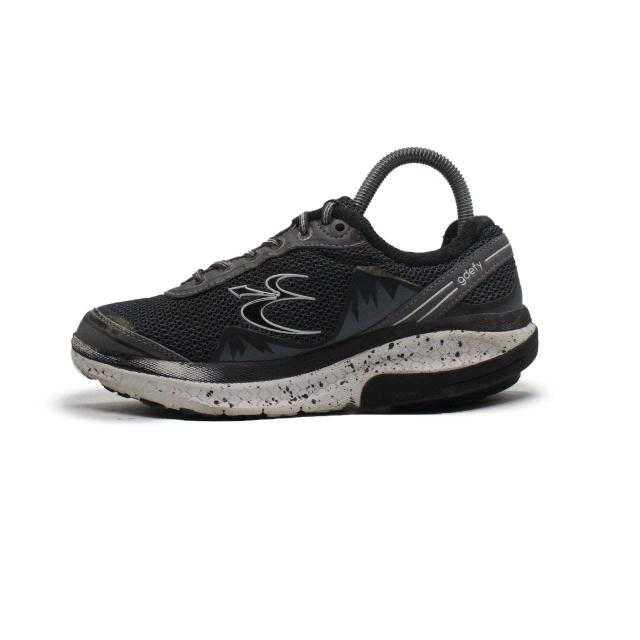heel: (461, 218, 528, 328)
midsole: (68, 320, 540, 418)
uppersole: (72, 198, 480, 383)
